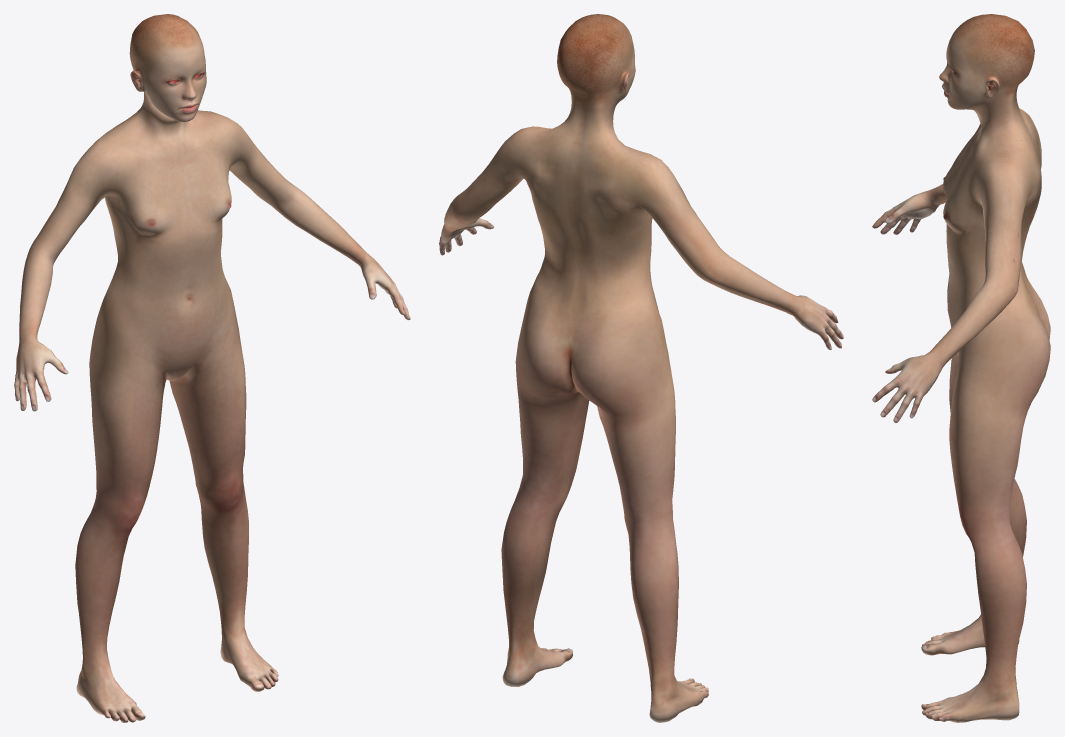
File: laura-2-native-fullbody.glb
3 views of the same model, side by side, from view 1: azimuth 30°, elevation 25°; view 2: azimuth 150°, elevation 25°; view 3: azimuth 270°, elevation 25° (orthographic). The views are drawn at different scales.
Parts seen in each view (by area): view 1: Laura native MPFB head; view 2: Laura native MPFB head; view 3: Laura native MPFB head.
Part boxes in pixels (x1,y1,x2,y2): Laura native MPFB head: (14, 14, 410, 722); Laura native MPFB head: (439, 14, 843, 722); Laura native MPFB head: (872, 14, 1050, 722).
Size of the model in its own units: 0.8953 by 1.47 by 0.3565.
Materials: 1 (1 with a texture image).
